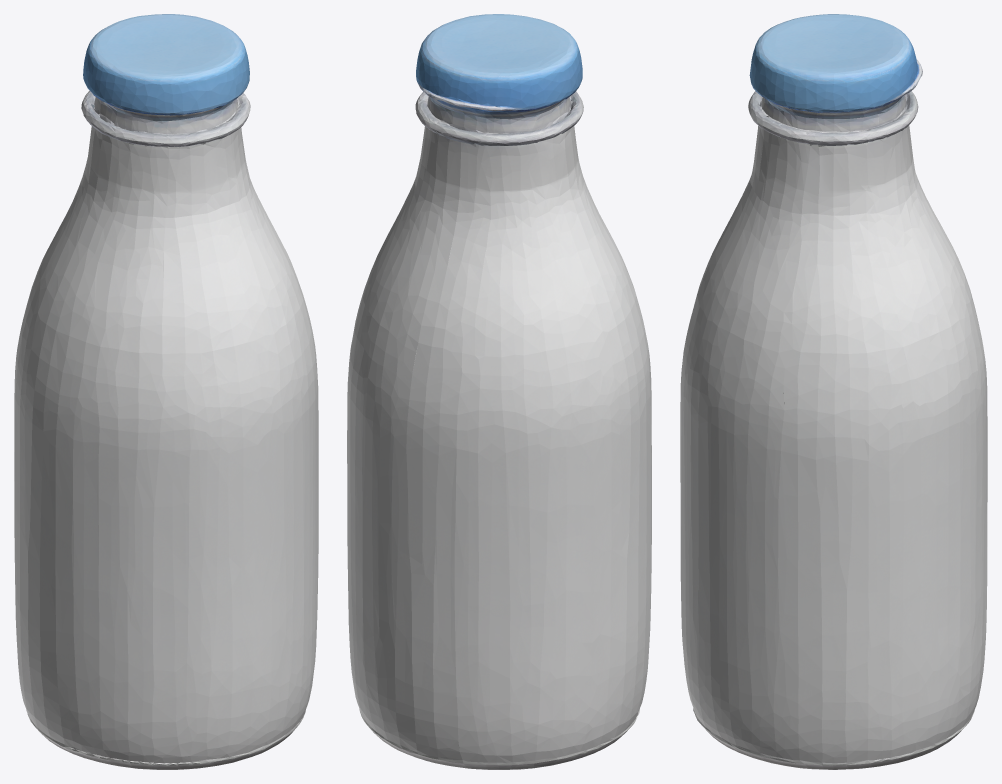
Rendered from milk-bottle.glb.
3 views of the same model, side by side, from view 1: azimuth 30°, elevation 25°; view 2: azimuth 150°, elevation 25°; view 3: azimuth 270°, elevation 25° (orthographic).
Parts seen in each view (by area): view 1: world; view 2: world; view 3: world.
Part boxes in pixels (x1,y1,x2,y2): world: (14,14,318,769); world: (347,14,651,769); world: (680,14,987,769).
Size of the model in its own units: 0.4103 by 0.9979 by 0.41.
Materials: 1 (1 with a texture image).
